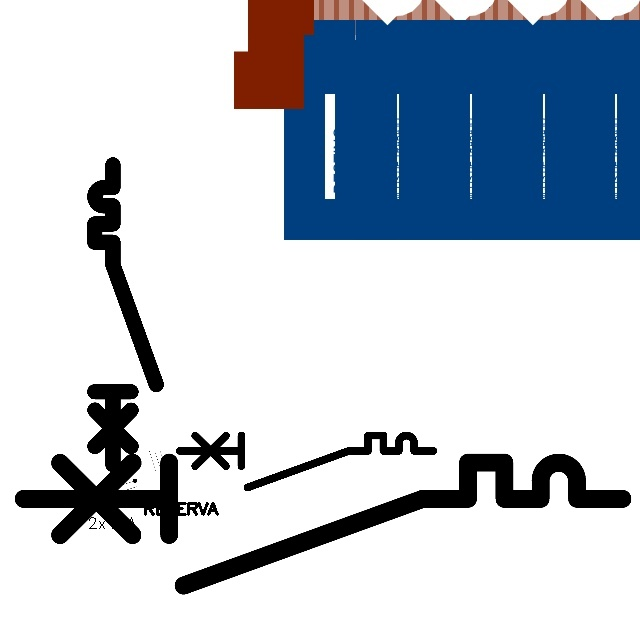interruptor_termomagnetico: (8, 447, 638, 601), (87, 157, 164, 472), (173, 429, 440, 494)
